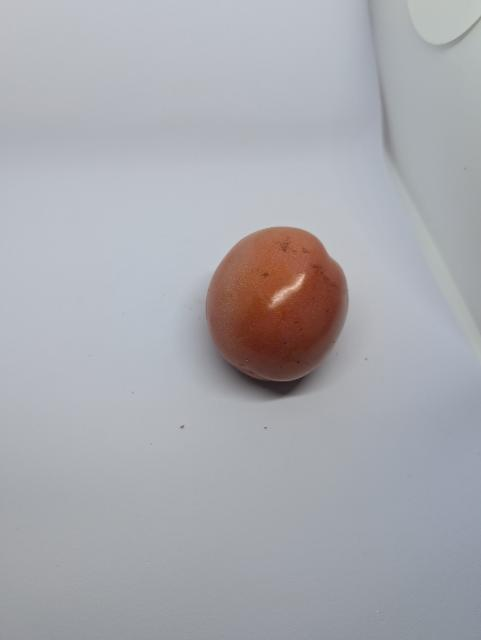red: (180, 219, 377, 392)
